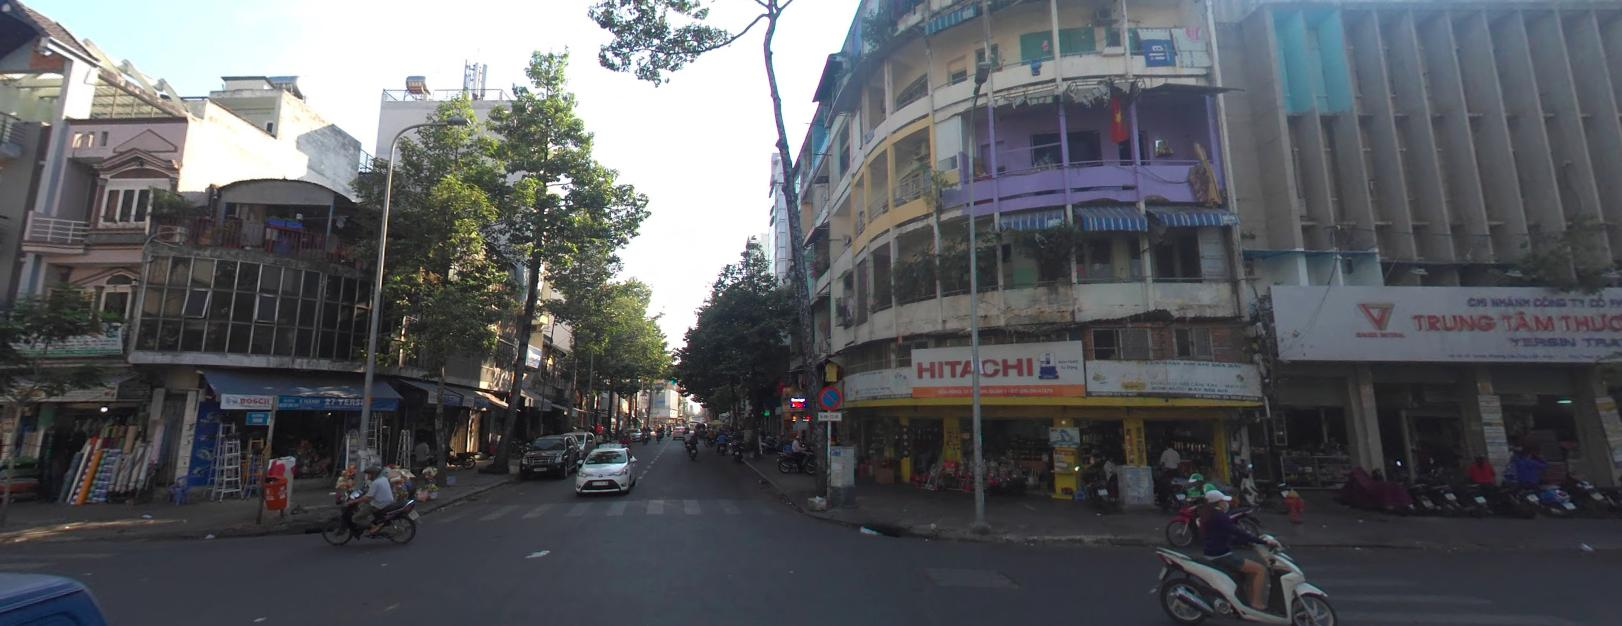Cam dung va do: (817, 383, 842, 408)
